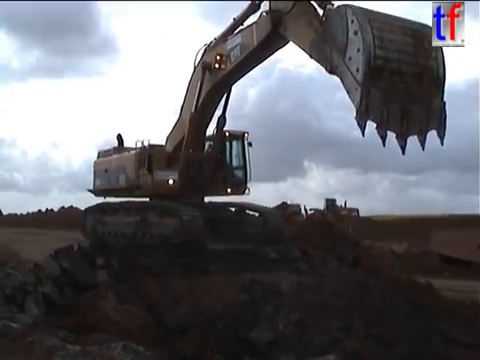excavator: (78, 1, 450, 248)
truck: (425, 225, 480, 270)
wheel loader: (274, 195, 362, 232)
